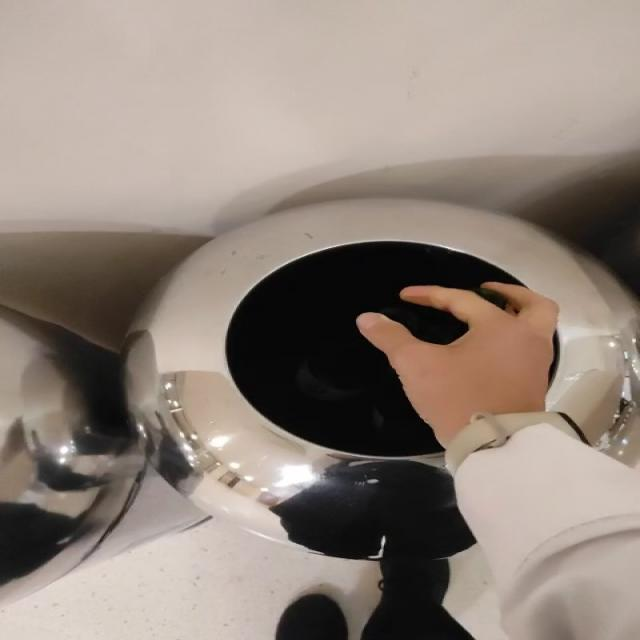bin: (124, 199, 637, 575)
